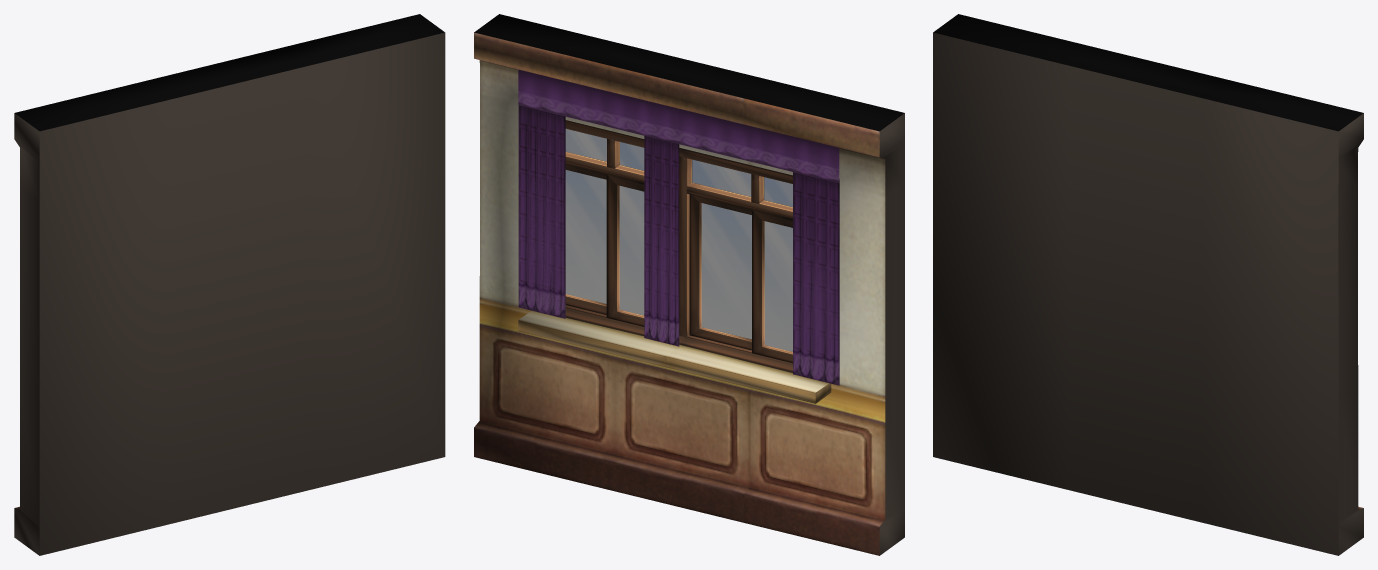
The model's file is a_SCwall04_1.glb.
The picture shows the model from 3 angles, left to right: view 1: azimuth 30°, elevation 25°; view 2: azimuth 150°, elevation 25°; view 3: azimuth 330°, elevation 25°; orthographic projection.
Visible parts, largest first — view 1: a_SCwall04_1; view 2: a_SCwall04_1; view 3: a_SCwall04_1.
Boxes of the visible parts, x1,y1,x2,y2 form: a_SCwall04_1: [14, 14, 445, 555]; a_SCwall04_1: [474, 14, 904, 555]; a_SCwall04_1: [933, 14, 1363, 555].
Size of the model in its own units: 3 by 3 by 0.4545.
2 materials, 2 textured.
